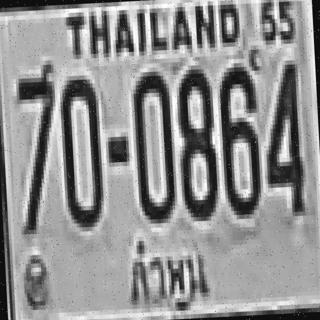N00: (131, 67, 175, 220), (59, 73, 102, 226)
N04: (260, 58, 304, 211)
N06: (217, 62, 261, 216)
N07: (14, 62, 61, 233), (14, 62, 59, 195)
N08: (173, 65, 216, 218)
P21: (123, 228, 214, 315)
